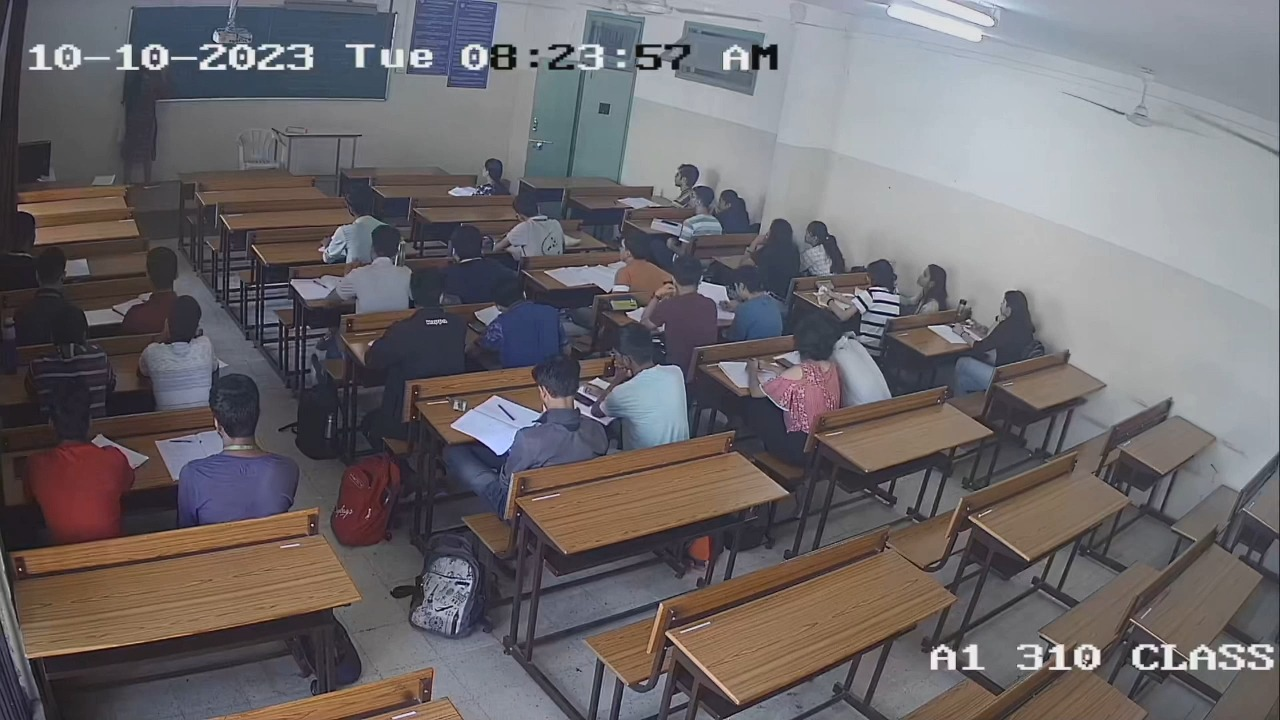cell-phones: (572, 384, 595, 409), (607, 297, 639, 313), (12, 453, 31, 479), (774, 352, 795, 373), (464, 318, 488, 336), (812, 278, 835, 292)
person: (28, 391, 136, 527), (591, 326, 689, 445), (747, 316, 839, 414), (480, 277, 571, 364), (640, 253, 719, 342), (850, 259, 901, 317)
